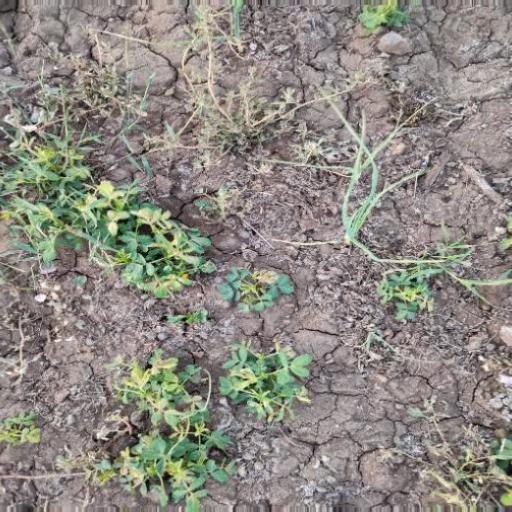weed: (291, 94, 471, 304), (76, 347, 315, 499), (16, 145, 202, 303)
